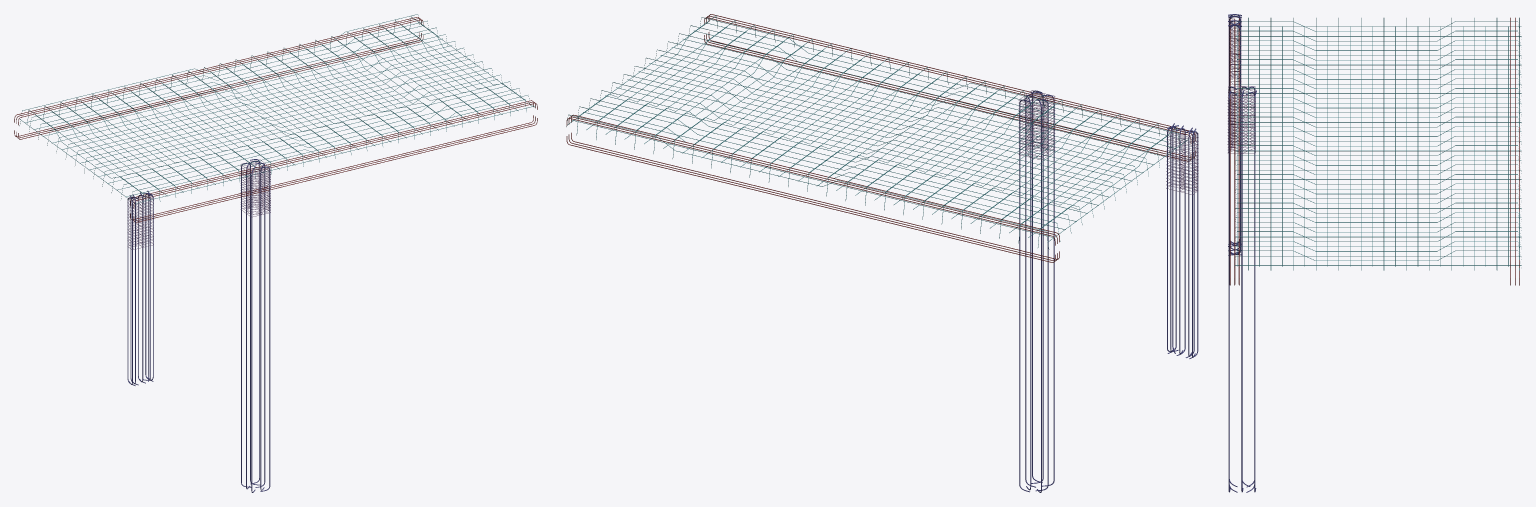
The model's file is 3dpea.glb.
3 renders of one model, left to right at view 1: azimuth 30°, elevation 25°; view 2: azimuth 150°, elevation 25°; view 3: azimuth 270°, elevation 25°, orthographic. The views are drawn at different scales.
Visible parts, largest first — view 1: Object007, Object006, Cylinder350, Line8900, Line8845, Cylinder423; view 2: Object007, Object006, Cylinder350, Line8845, Cylinder423, Line8900; view 3: Object006, Object007, Cylinder350, Line8900, Line8845, Cylinder423.
Part boxes in pixels (x1,y1,x2,y2): Object007: (19, 14, 534, 206); Object006: (20, 16, 534, 204); Cylinder350: (241, 159, 270, 492); Line8900: (130, 100, 537, 222); Line8845: (14, 17, 423, 139); Cylinder423: (127, 190, 153, 385); Object007: (566, 17, 1185, 249); Object006: (567, 15, 1187, 247); Cylinder350: (1019, 90, 1054, 492); Line8845: (566, 114, 1059, 262); Cylinder423: (1167, 123, 1198, 358); Line8900: (704, 14, 1195, 161); Object006: (1235, 21, 1521, 265); Object007: (1237, 17, 1519, 270); Cylinder350: (1228, 86, 1256, 492); Line8900: (1229, 18, 1239, 285); Line8845: (1510, 17, 1519, 285); Cylinder423: (1228, 14, 1241, 255).
Size of the model in its own units: 775 by 592 by 395.
